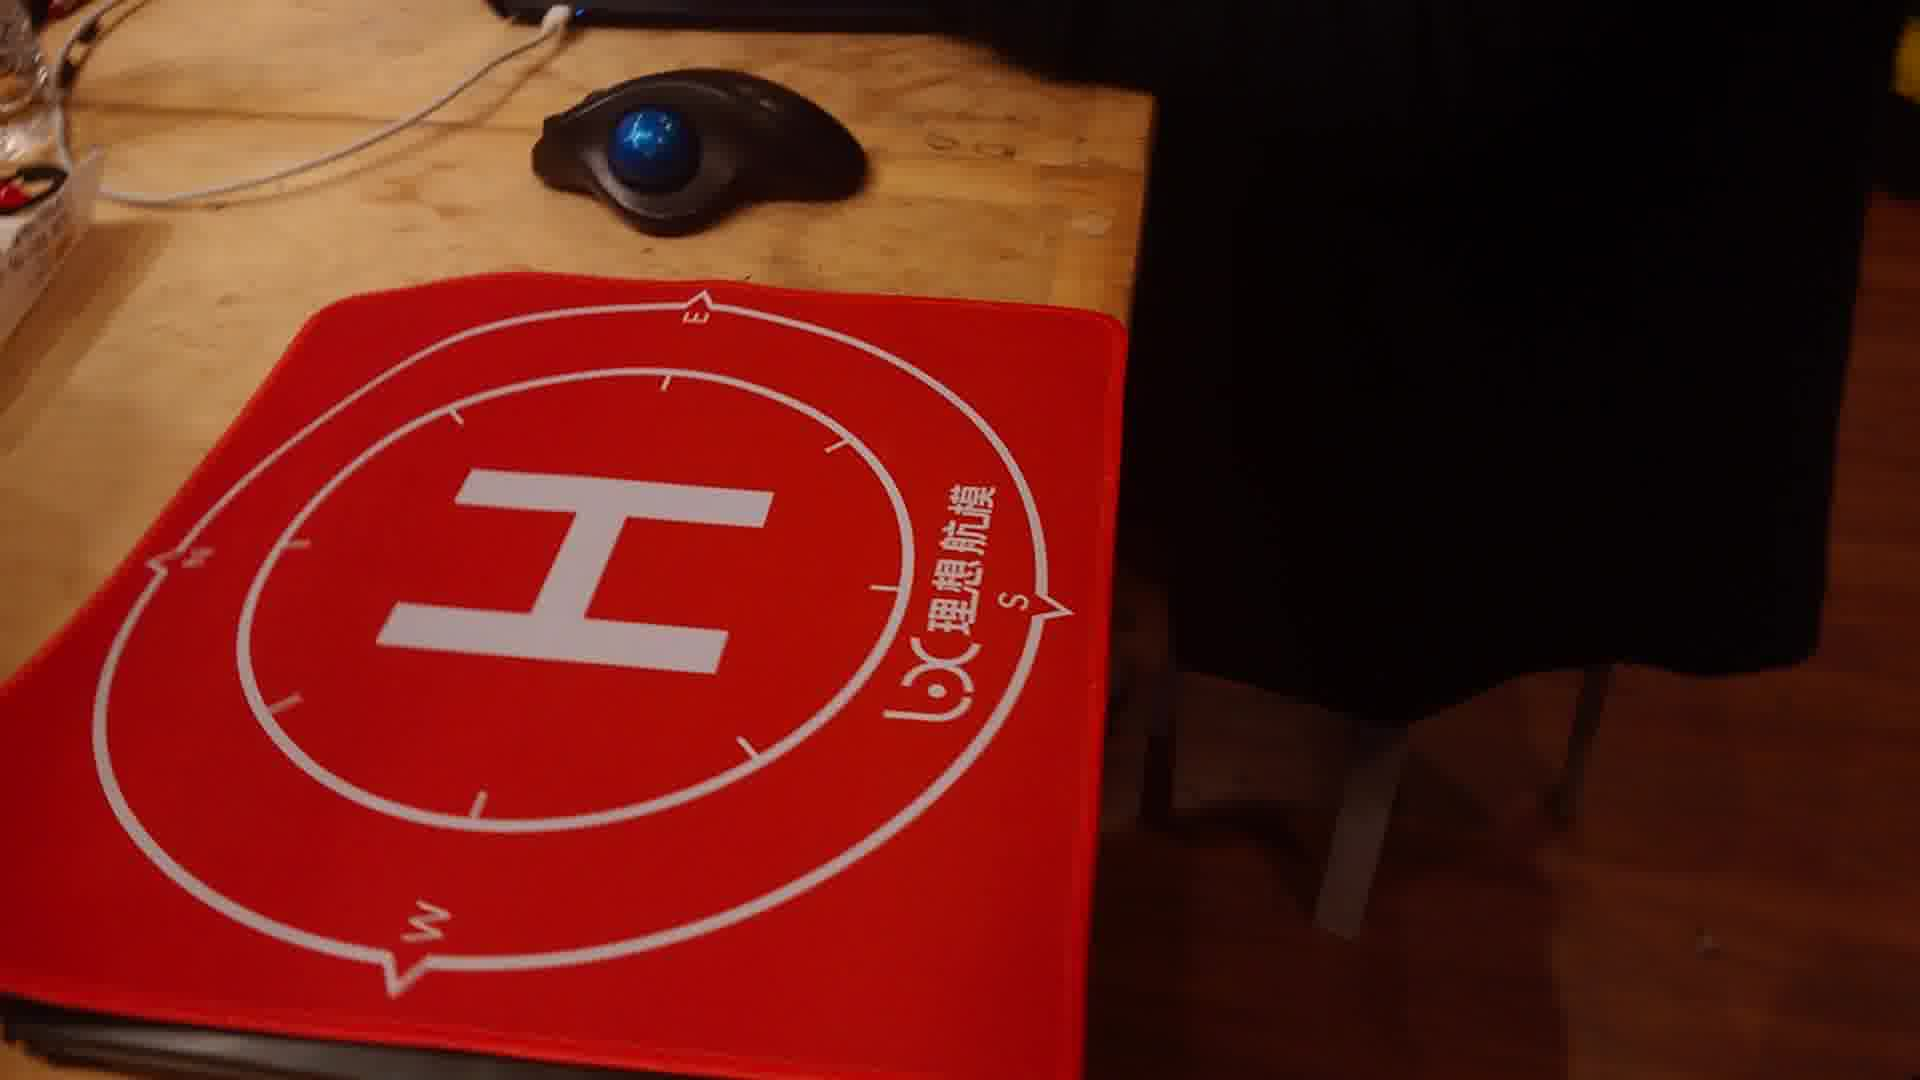H: (375, 465, 777, 680)
